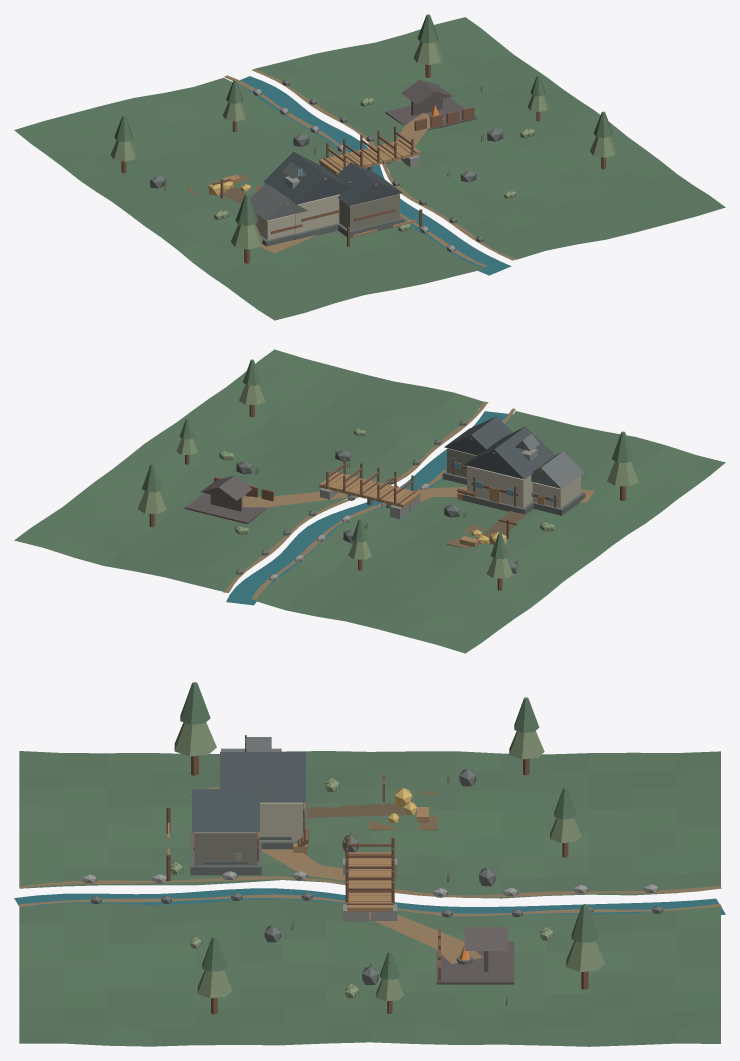
Rendered from barrosan_original_kit.glb.
3 renders of one model, top to bottom at view 1: azimuth 30°, elevation 25°; view 2: azimuth 150°, elevation 25°; view 3: azimuth 270°, elevation 25°, orthographic. The views are drawn at different scales.
Parts seen in each view (by area): view 1: Original_Grass_Terrain_East, Original_Grass_Terrain_West, Recessed_Curved_Stream_Water, Main_Hall_Slate_Gable_Roof, Field_Barracks_Slate_Gable_Roof, Field_Barracks_Limewashed_Walls, Barrosan_House_Slate_Gable_Roof, Main_Hall_Limewashed_Walls, Raised_Stream_Bank_East, Hostile_Camp_Ground, Camp_Dark_Shelter_Roof, Raised_Stream_Bank_West (+4 smaller); view 2: Original_Grass_Terrain_East, Original_Grass_Terrain_West, Recessed_Curved_Stream_Water, Main_Hall_Slate_Gable_Roof, Main_Hall_Limewashed_Walls, Field_Barracks_Slate_Gable_Roof, Barrosan_House_Slate_Gable_Roof, Hostile_Camp_Ground, Raised_Stream_Bank_East, Embedded_Worn_Road_East, Barrosan_House_Limewashed_Walls, Camp_Dark_Shelter_Roof (+5 smaller); view 3: Original_Grass_Terrain_East, Original_Grass_Terrain_West, Recessed_Curved_Stream_Water, Main_Hall_Slate_Gable_Roof, Field_Barracks_Slate_Gable_Roof, Hostile_Camp_Ground, Raised_Stream_Bank_West, Field_Barracks_Limewashed_Walls, Raised_Stream_Bank_East, Main_Hall_Limewashed_Walls, Embedded_Worn_Road_East, Embedded_Worn_Road_West (+11 smaller).
Boxes of the visible parts, x1,y1,x2,y2 form: Original_Grass_Terrain_East: (255,17,725,259); Original_Grass_Terrain_West: (14,77,483,320); Recessed_Curved_Stream_Water: (238,76,511,275); Main_Hall_Slate_Gable_Roof: (263,152,349,204); Field_Barracks_Slate_Gable_Roof: (335,162,402,205); Field_Barracks_Limewashed_Walls: (339,194,399,230); Barrosan_House_Slate_Gable_Roof: (250,183,307,220); Main_Hall_Limewashed_Walls: (295,194,339,233); Raised_Stream_Bank_East: (251,68,515,260); Hostile_Camp_Ground: (385,97,476,130); Camp_Dark_Shelter_Roof: (401,80,452,104); Raised_Stream_Bank_West: (224,75,487,267); Original_Grass_Terrain_East: (14,349,483,591); Original_Grass_Terrain_West: (256,411,725,653); Recessed_Curved_Stream_Water: (226,411,512,605); Main_Hall_Slate_Gable_Roof: (464,426,555,479); Main_Hall_Limewashed_Walls: (467,466,532,507); Field_Barracks_Slate_Gable_Roof: (444,416,512,455); Barrosan_House_Slate_Gable_Roof: (531,451,583,488); Hostile_Camp_Ground: (184,493,268,523); Raised_Stream_Bank_East: (223,401,488,592); Embedded_Worn_Road_East: (242,491,346,507); Barrosan_House_Limewashed_Walls: (532,475,580,508); Camp_Dark_Shelter_Roof: (201,475,252,500); Original_Grass_Terrain_East: (19,899,720,1046); Original_Grass_Terrain_West: (19,751,720,898); Recessed_Curved_Stream_Water: (14,888,725,916); Main_Hall_Slate_Gable_Roof: (220,752,305,802); Field_Barracks_Slate_Gable_Roof: (192,789,259,831); Hostile_Camp_Ground: (436,941,514,984); Raised_Stream_Bank_West: (19,876,721,897); Field_Barracks_Limewashed_Walls: (194,832,256,865); Raised_Stream_Bank_East: (18,894,721,916); Main_Hall_Limewashed_Walls: (259,802,302,841); Embedded_Worn_Road_East: (369,911,482,963); Embedded_Worn_Road_West: (204,787,345,880).
Bounding box in the file's own units: 36 × 5.65 × 36.52.
